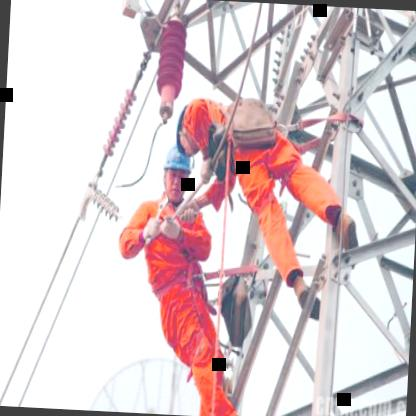helmet: (154, 133, 194, 207), (178, 97, 214, 154)
